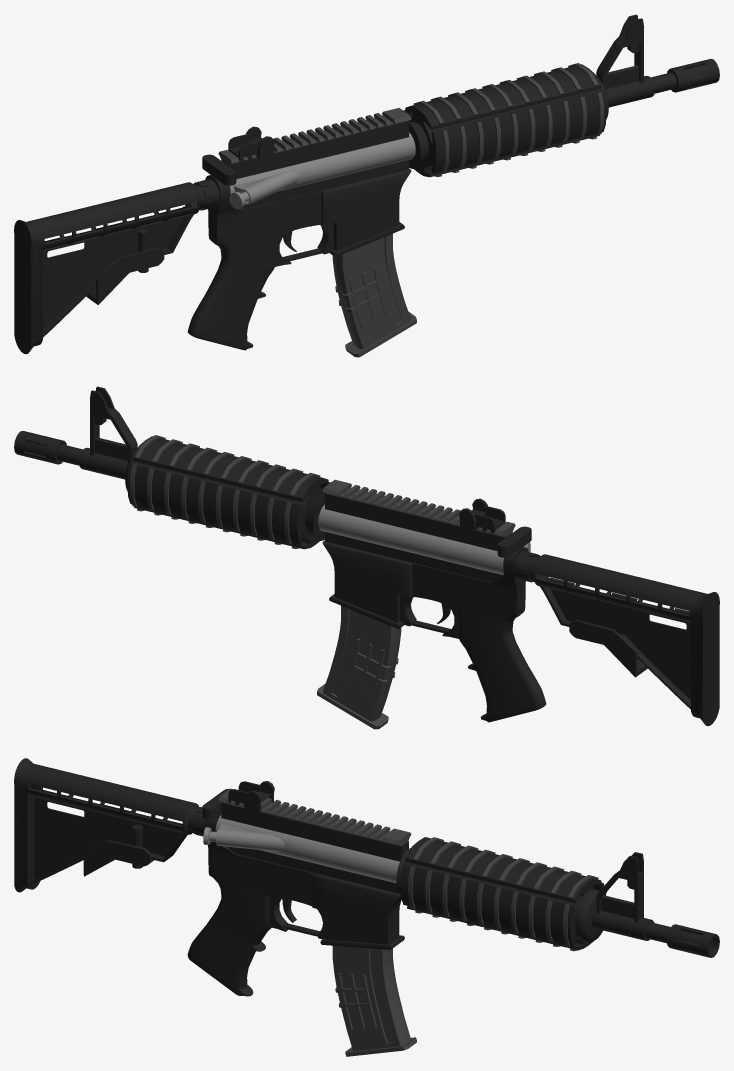
Rendered from Colt_M4A1_Mesh.fbx.
3 renders of one model, top to bottom at view 1: azimuth 30°, elevation 25°; view 2: azimuth 150°, elevation 25°; view 3: azimuth 330°, elevation 25°, orthographic.
Parts seen in each view (by area): view 1: Colt_M4A1; view 2: Colt_M4A1; view 3: Colt_M4A1.
Boxes of the visible parts, left/top/right/bottom form: Colt_M4A1: left=14, top=14, right=719, bottom=357; Colt_M4A1: left=14, top=386, right=719, bottom=729; Colt_M4A1: left=14, top=758, right=719, bottom=1056.
Size of the model in its own units: 0.8074 by 0.2977 by 0.0776.
